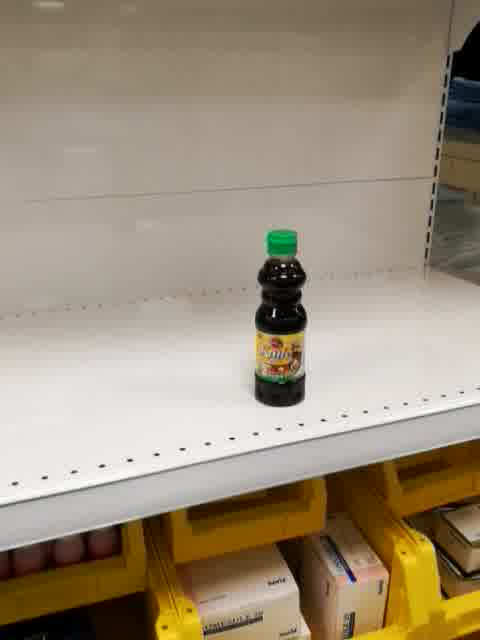cookingoil: (252, 226, 309, 408)
